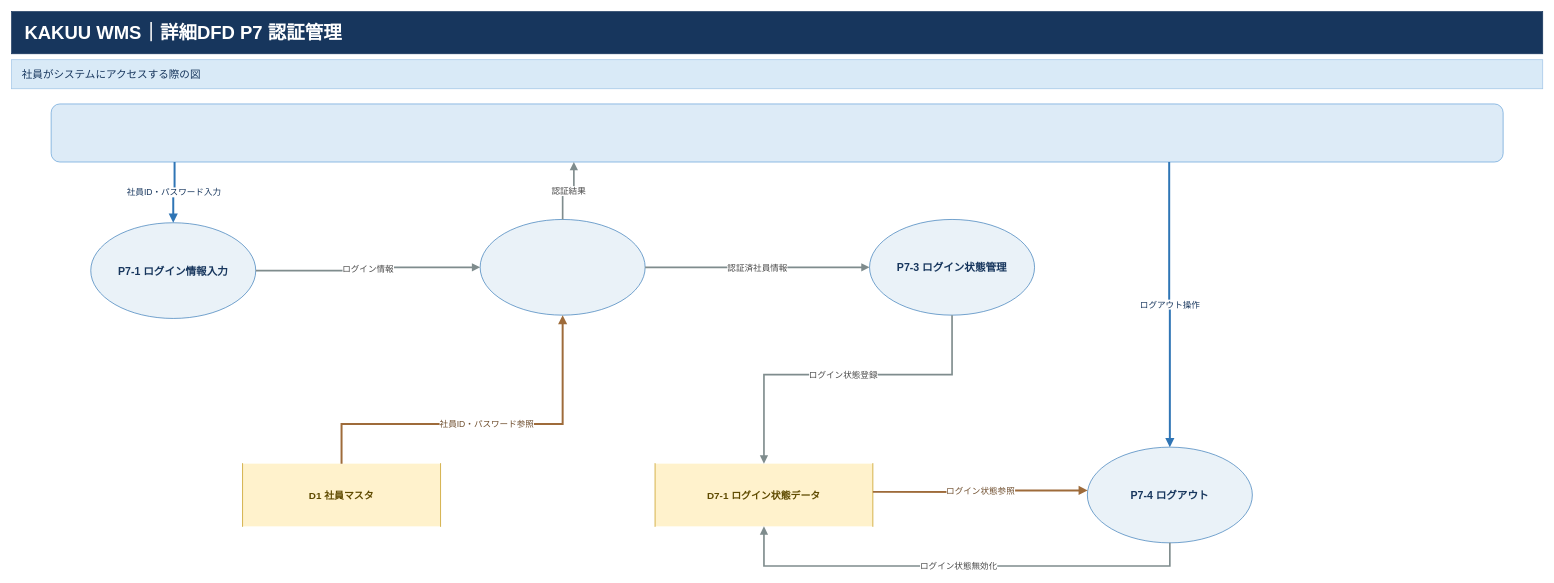
Some shapes in this 1554 by 583 pixel diagram are drawn without their labels. Here are the shapes that lost their labels. From the top down, the centre of each, then its label:
At [776,132]: "社員".
At [562,267]: "P7-2 ログイン認証".
